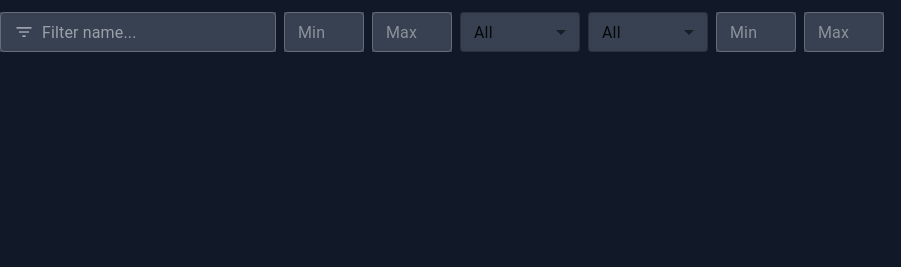
Test: UnitFilters › should display all rarity options
Step 1. Click the 1st dropdown labelled "All" → (483, 32), box [474,22,493,42]
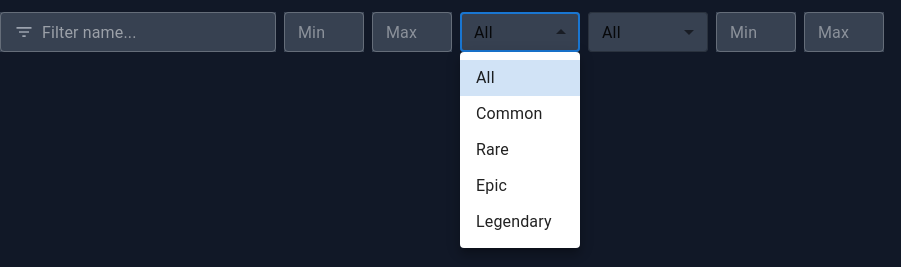
Check: the option "Common" is shown, box [476,104,542,123]
Check: the option "Rare" is shown, box [476,140,509,159]
Check: the option "Epic" is shown, box [476,176,507,195]
